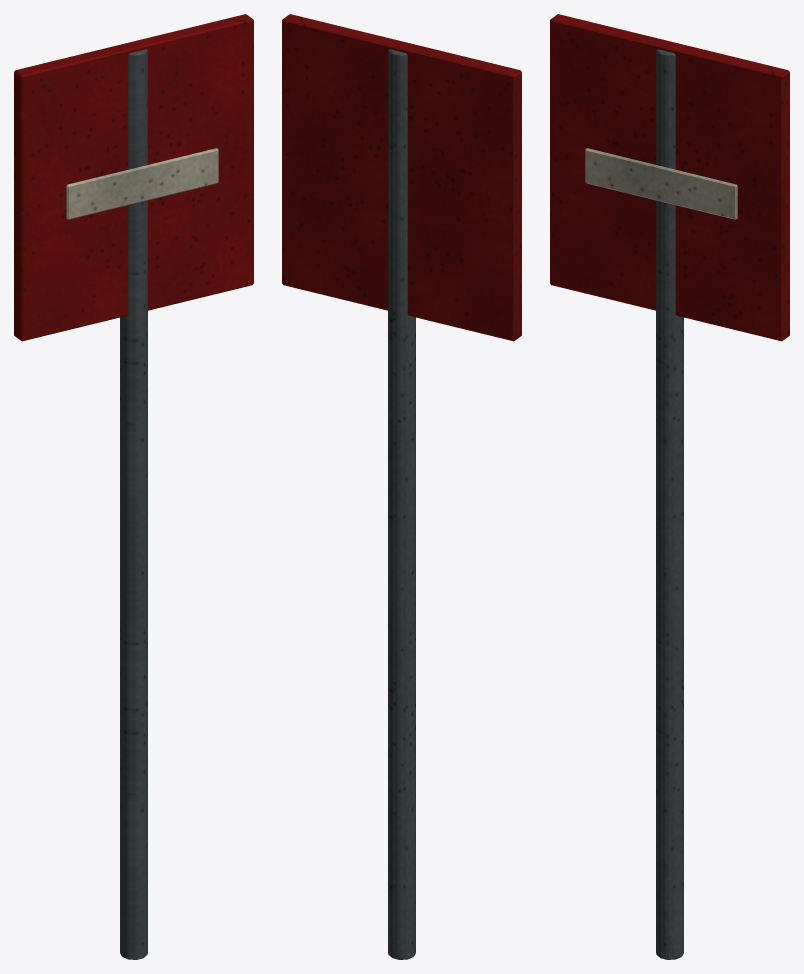
The model's file is PROP-89FEA3749085_lod1.glb.
3 renders of one model, left to right at view 1: azimuth 30°, elevation 25°; view 2: azimuth 150°, elevation 25°; view 3: azimuth 330°, elevation 25°, orthographic.
Parts seen in each view (by area): view 1: sign_plate.004, sign_post.006, no_entry_bar.001; view 2: sign_plate.004, sign_post.006; view 3: sign_plate.004, sign_post.006, no_entry_bar.001.
Part boxes in pixels (<box>): sign_plate.004: <box>14,14,253,341</box>; sign_post.006: <box>120,49,147,959</box>; no_entry_bar.001: <box>66,148,218,219</box>; sign_plate.004: <box>282,14,521,341</box>; sign_post.006: <box>388,49,415,959</box>; sign_plate.004: <box>550,14,789,341</box>; sign_post.006: <box>656,49,683,959</box>; no_entry_bar.001: <box>585,148,737,219</box>.
Size of the model in its own units: 0.66 by 2.46 by 0.0803.
3 materials, 3 textured.
